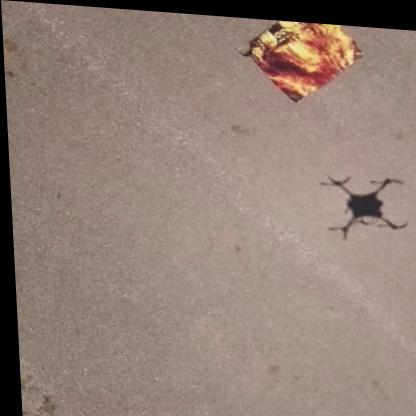fire-poster: (237, 14, 366, 102)
